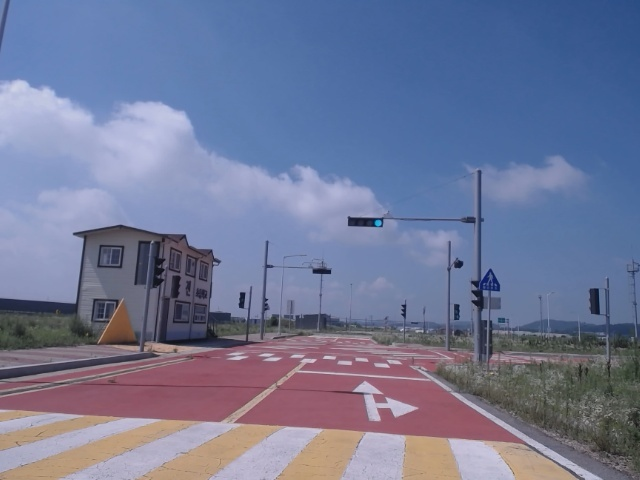straight_green_4: (348, 218, 383, 227)
